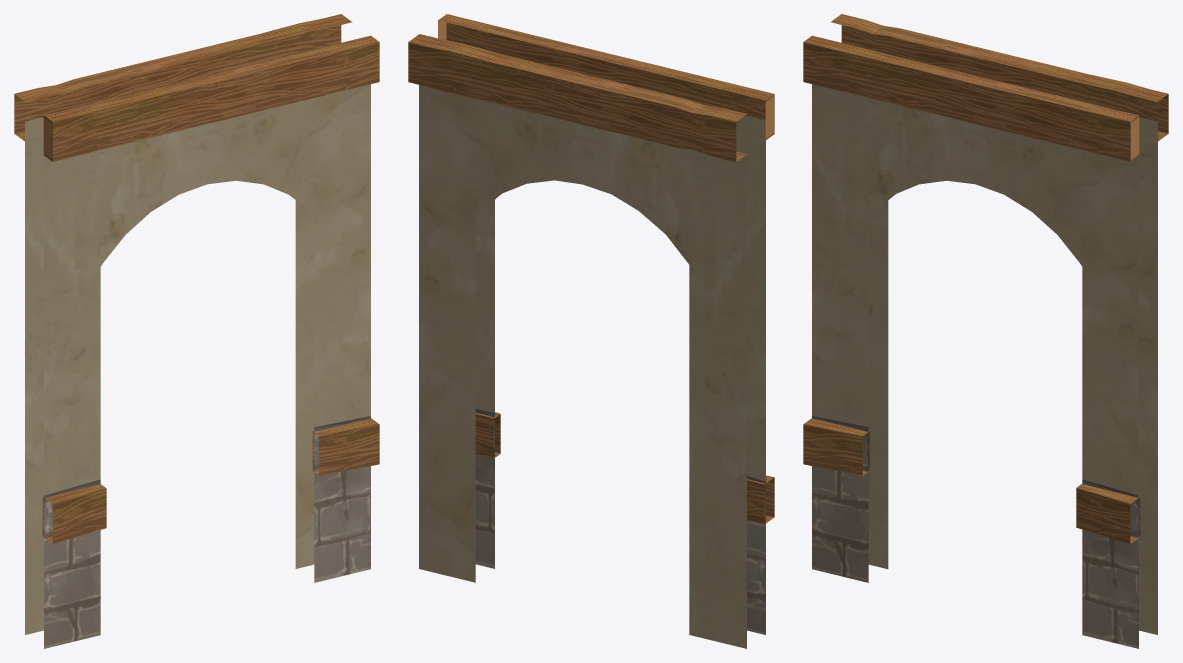
Rendered from Wall_Plaster_Door_Round.glb.
The picture shows the model from 3 angles, left to right: view 1: azimuth 30°, elevation 25°; view 2: azimuth 150°, elevation 25°; view 3: azimuth 330°, elevation 25°; orthographic projection.
Parts seen in each view (by area): view 1: Wall_Plaster_Door_Round; view 2: Wall_Plaster_Door_Round; view 3: Wall_Plaster_Door_Round.
Part boxes in pixels (bbox=[...]): Wall_Plaster_Door_Round: bbox=[14, 14, 379, 648]; Wall_Plaster_Door_Round: bbox=[408, 14, 774, 648]; Wall_Plaster_Door_Round: bbox=[803, 14, 1168, 648].
Size of the model in its own units: 2 by 3.12 by 0.4064.
Materials: 3 (3 with a texture image).
